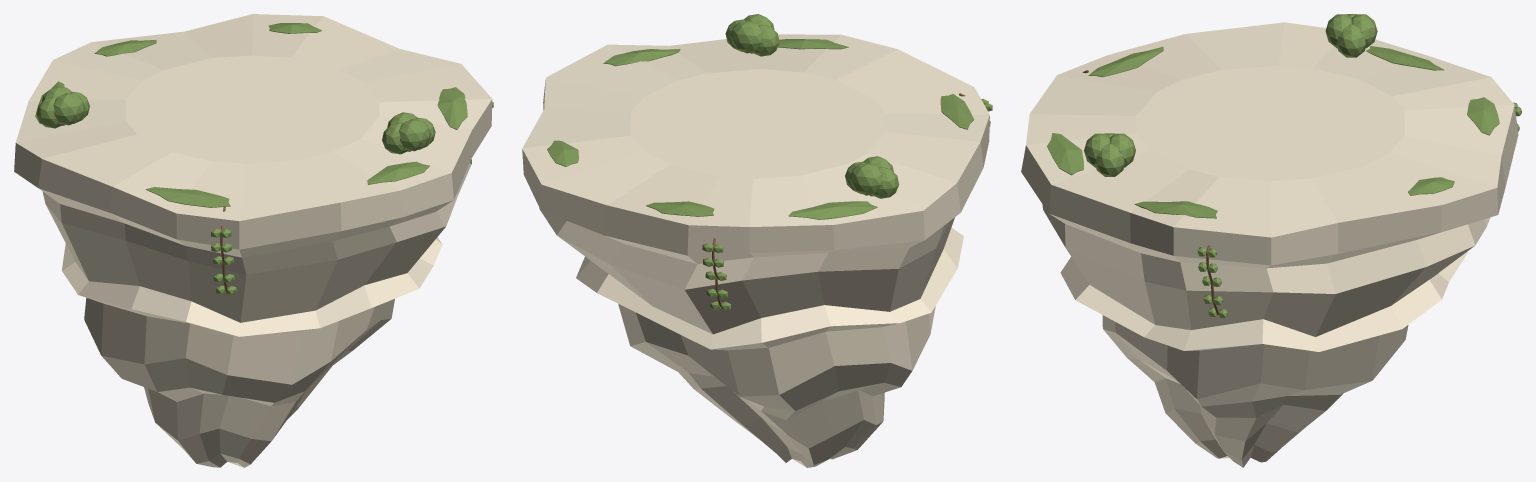
The model's file is world01-island-rock-v1.glb.
3 renders of one model, left to right at view 1: azimuth 30°, elevation 25°; view 2: azimuth 150°, elevation 25°; view 3: azimuth 270°, elevation 25°, orthographic. The views are drawn at different scales.
Parts seen in each view (by area): view 1: Fresh limestone ledges, Weathered ivory limestone, Olive moss and foliage; view 2: Fresh limestone ledges, Weathered ivory limestone, Olive moss and foliage; view 3: Fresh limestone ledges, Weathered ivory limestone, Olive moss and foliage.
Boxes of the visible parts, x1,y1,x2,y2 form: Fresh limestone ledges: (16, 14, 491, 401); Weathered ivory limestone: (14, 99, 492, 467); Olive moss and foliage: (35, 23, 493, 294); Fresh limestone ledges: (522, 34, 989, 410); Weathered ivory limestone: (522, 80, 989, 467); Olive moss and foliage: (547, 14, 992, 310); Fresh limestone ledges: (1026, 22, 1514, 383); Weathered ivory limestone: (1021, 105, 1518, 467); Olive moss and foliage: (1047, 14, 1521, 318).
Size of the model in its own units: 12.62 by 10.36 by 12.29.
